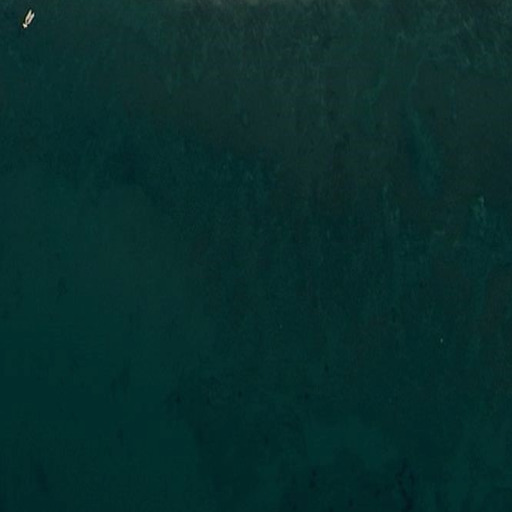ship: (21, 7, 36, 31)
